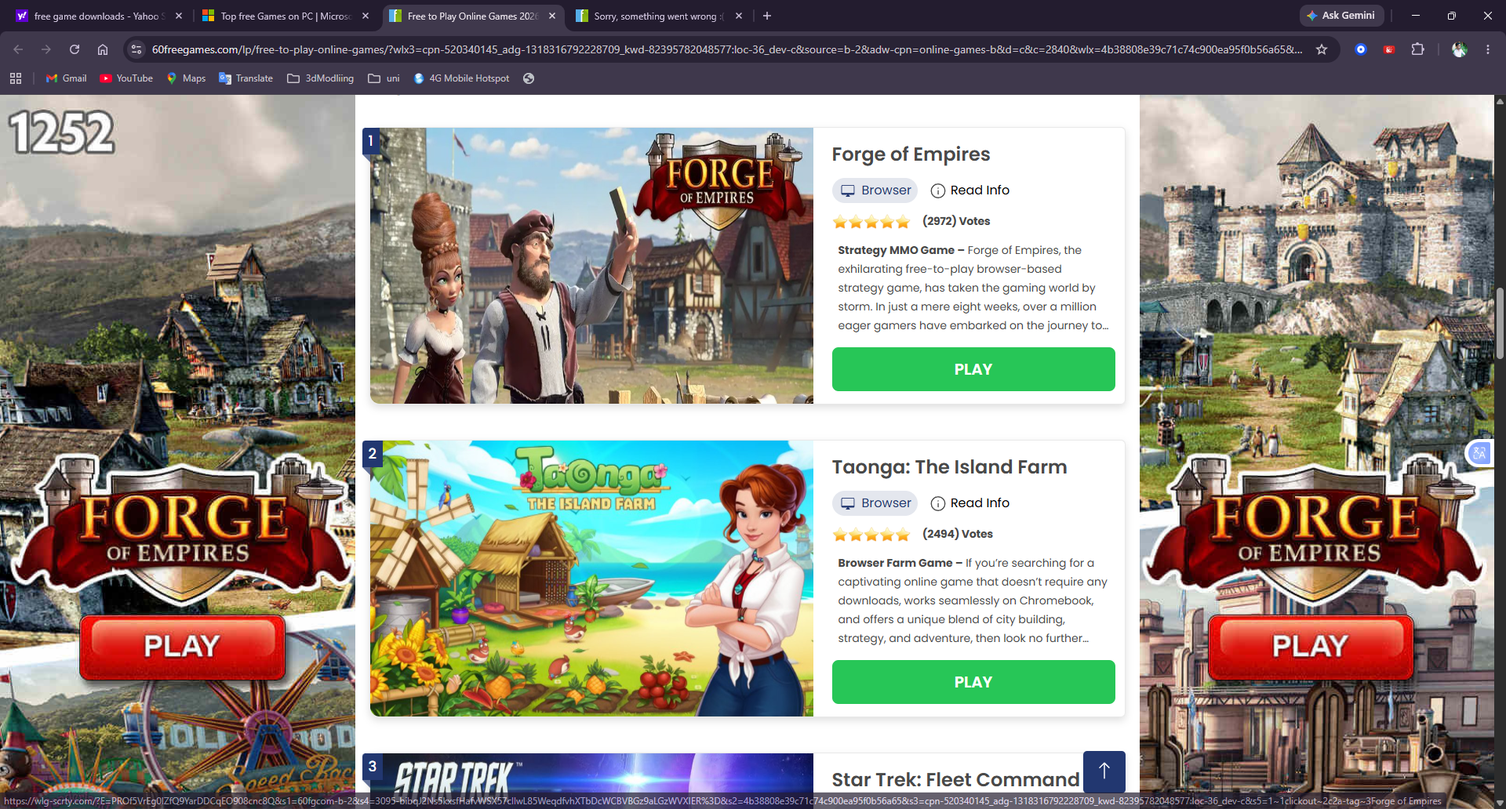fake_button: (62, 602, 299, 697), (824, 344, 1131, 412), (1196, 600, 1434, 685), (829, 653, 1124, 719)
